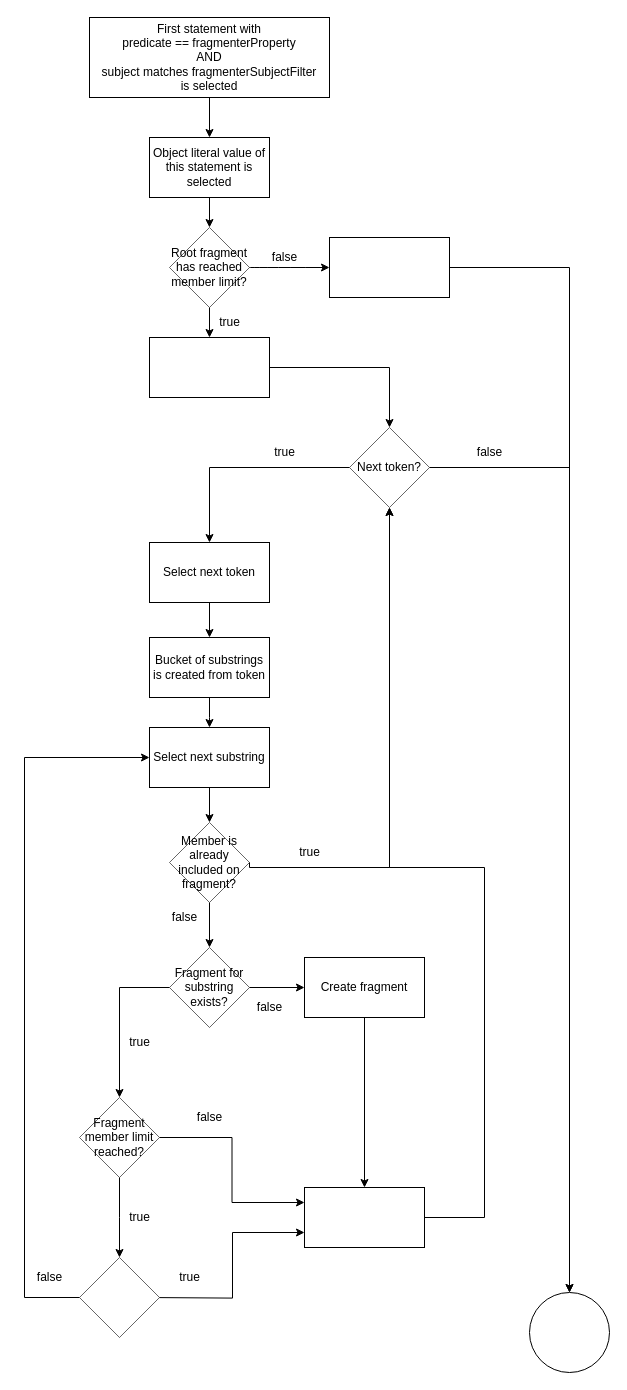
The diagram is 627 pixels wide and 1390 high, and some of its shapes have lost their labels. Here are the shapes that lost their labels. From the top down, the centre of each, then its label:
At pixel 389 267: "Add member to root fragment".
At pixel 209 367: "Tokens are created".
At pixel 364 1217: "Add member to fragment".
At pixel 119 1297: "Last substring in bucket?".
At pixel 569 1332: "THE END".
